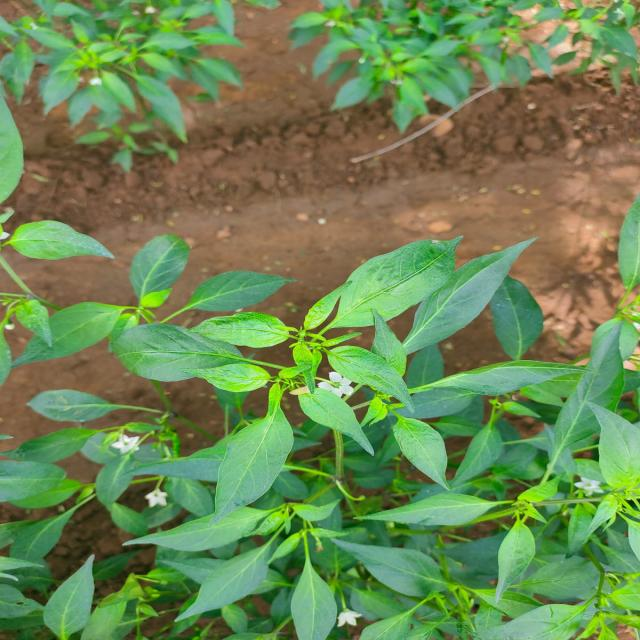Mosaic_virus: (0, 197, 640, 640)
